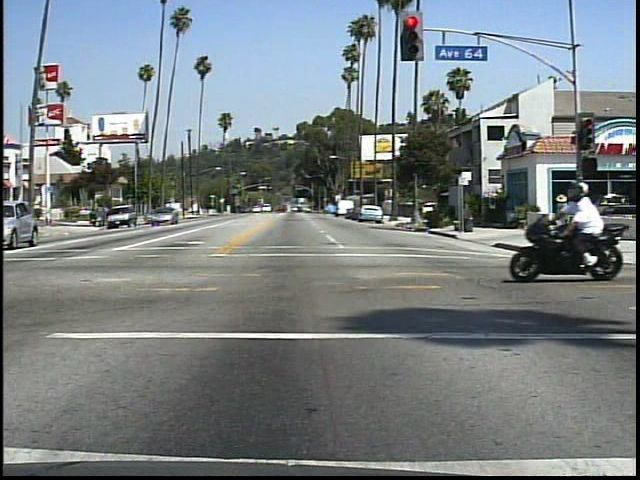person: (555, 175, 614, 281), (548, 191, 572, 215)
